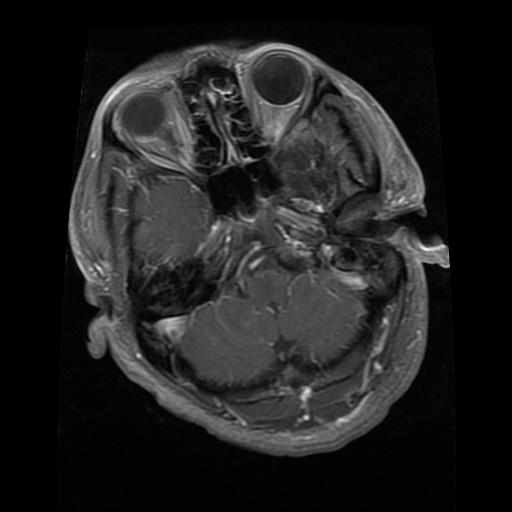Gliomia_tumour: (271, 140, 338, 203)
